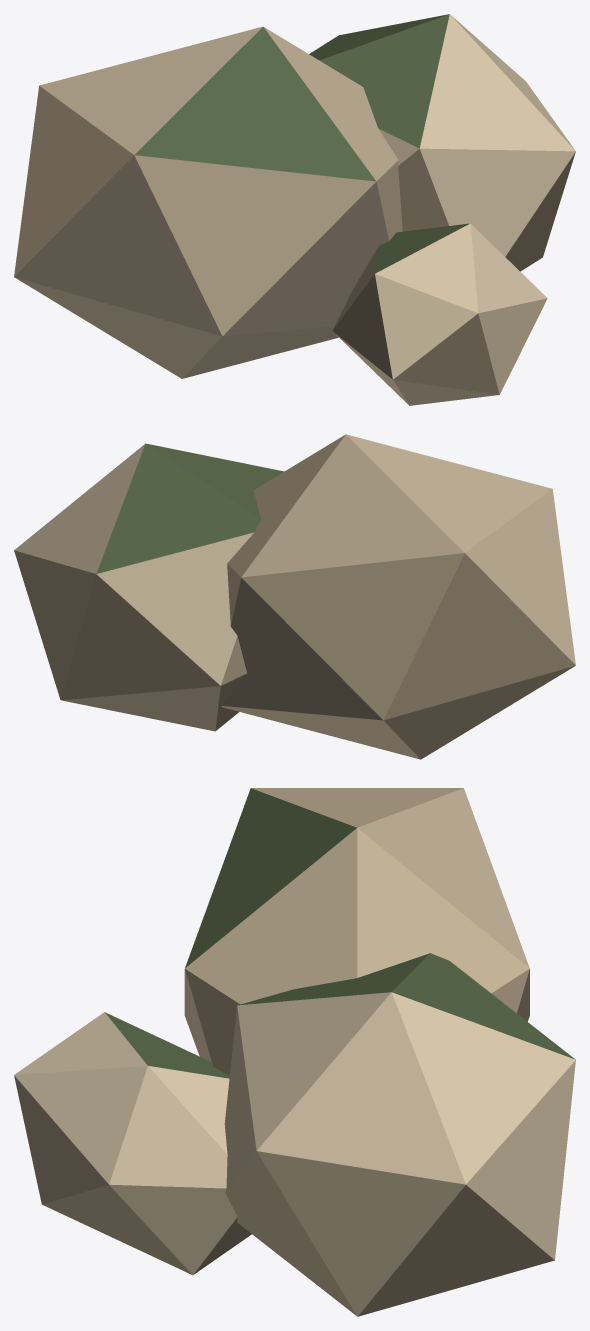
File: rock_cluster_v1530_02.glb
The picture shows the model from 3 angles, top to bottom: view 1: azimuth 30°, elevation 25°; view 2: azimuth 150°, elevation 25°; view 3: azimuth 270°, elevation 25°; orthographic projection. The views are drawn at different scales.
Parts seen in each view (by area): view 1: rock_cluster_v1530_02; view 2: rock_cluster_v1530_02; view 3: rock_cluster_v1530_02.
Boxes of the visible parts, x1,y1,x2,y2 form: rock_cluster_v1530_02: (14, 14, 575, 405); rock_cluster_v1530_02: (14, 434, 575, 759); rock_cluster_v1530_02: (14, 788, 575, 1316).
Bounding box in the file's own units: 1.11 × 0.6369 × 0.856.
